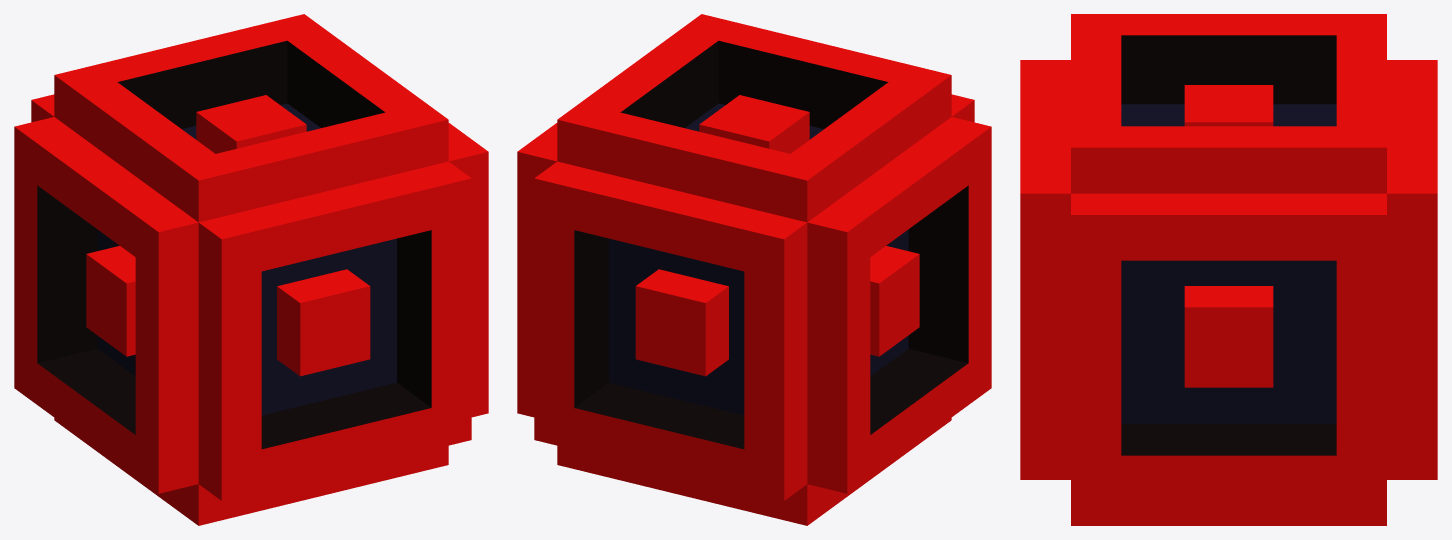
The model's file is MovingObject_Cube.fbx.
3 views of the same model, side by side, from view 1: azimuth 30°, elevation 25°; view 2: azimuth 150°, elevation 25°; view 3: azimuth 270°, elevation 25° (orthographic). The views are drawn at different scales.
Parts seen in each view (by area): view 1: Box001; view 2: Box001; view 3: Box001.
Part boxes in pixels (x1,y1,x2,y2): Box001: (14,14,488,525); Box001: (517,14,991,525); Box001: (1020,14,1437,525).
Size of the model in its own units: 33 by 33 by 33.
